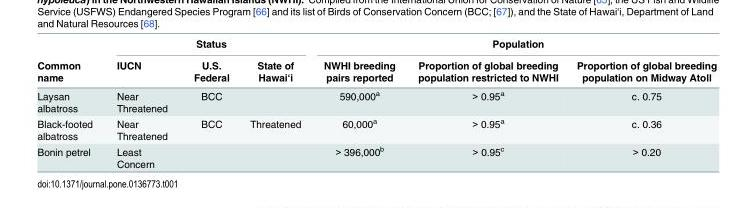table: (36, 37, 715, 169)
table column: (405, 37, 566, 169), (566, 37, 715, 169), (311, 37, 405, 169), (103, 37, 179, 169), (238, 37, 311, 169), (36, 37, 103, 169), (179, 37, 238, 169)
table column header: (36, 37, 715, 85)
table row: (36, 53, 715, 85), (36, 85, 715, 114), (36, 114, 715, 142), (36, 142, 715, 169), (36, 37, 715, 53)
table spanning cell: (311, 37, 715, 53), (103, 37, 311, 53), (36, 37, 103, 85)
